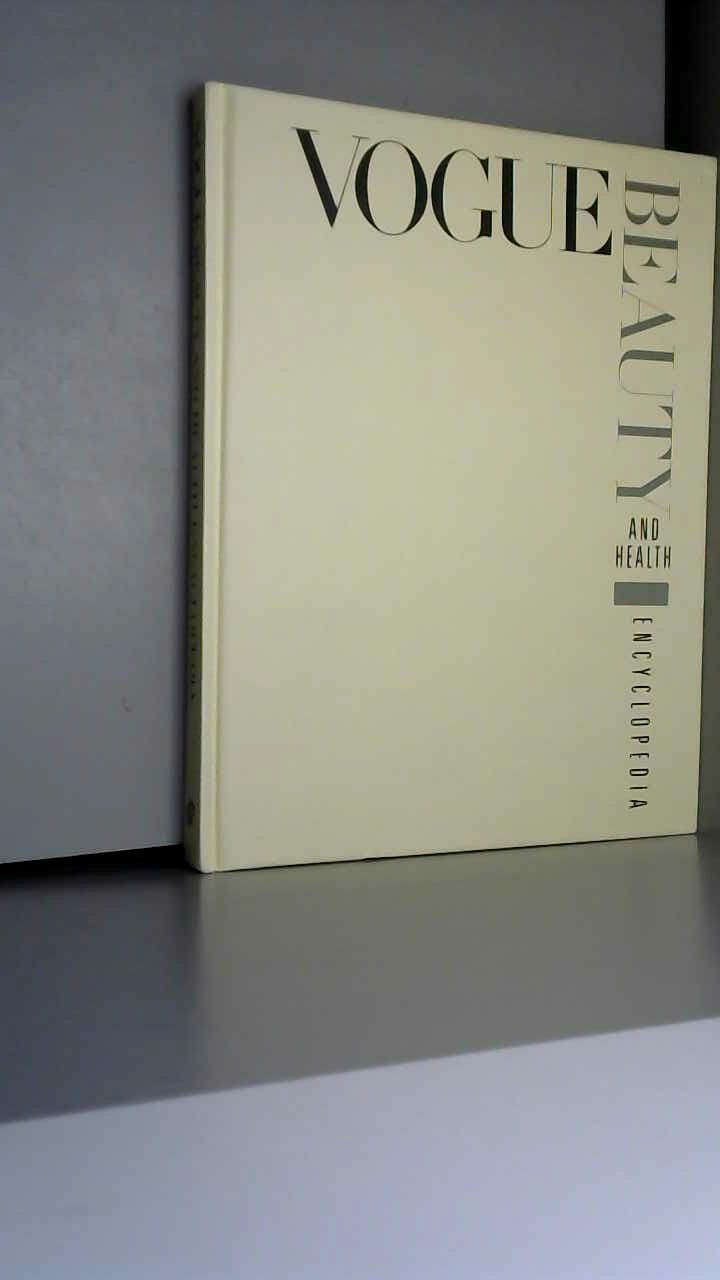book: (150, 50, 720, 935)
